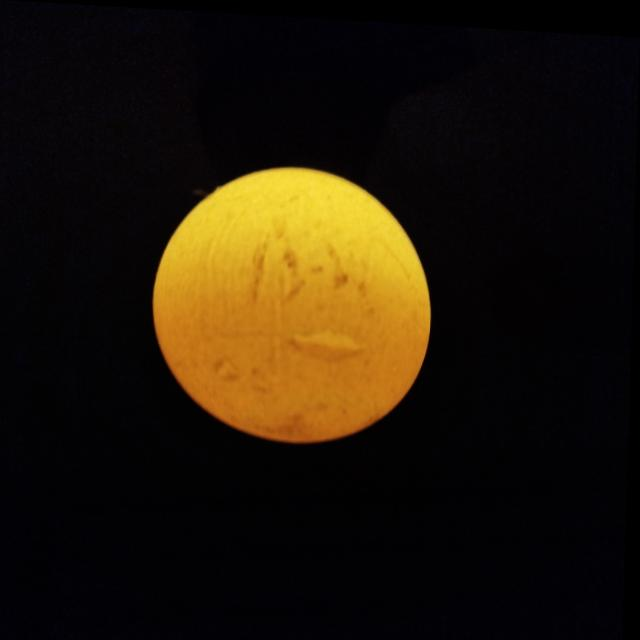Rachadura: (294, 326, 364, 353)
